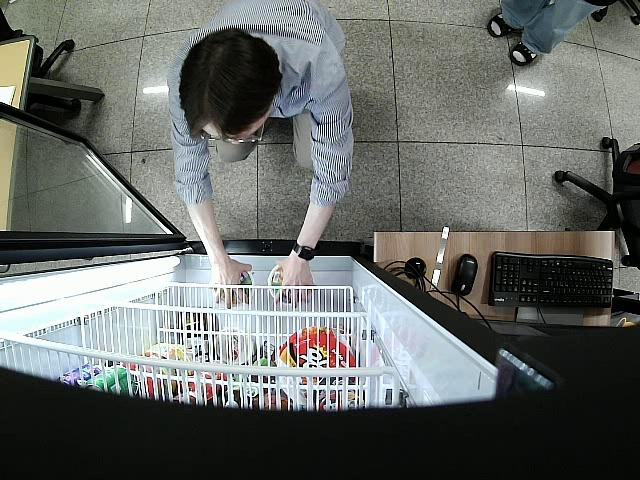00_hand: (208, 262, 251, 308), (273, 262, 316, 307)
09_yukGaeJang: (266, 263, 305, 304), (217, 273, 253, 309)
